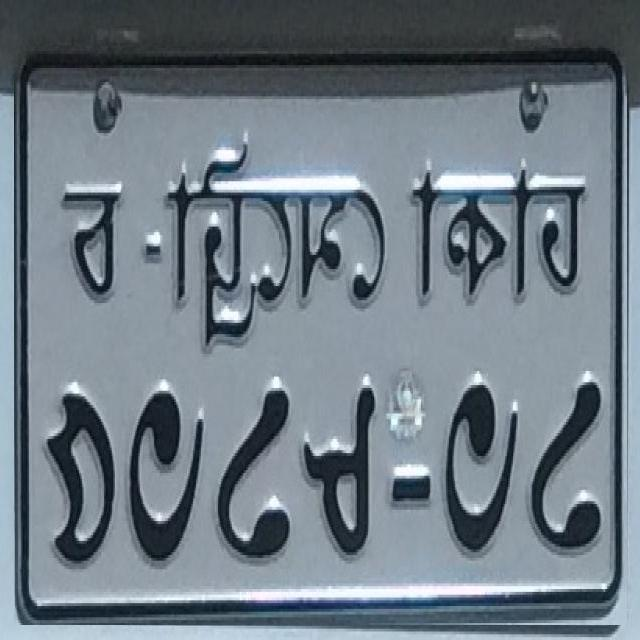numberplate: (14, 46, 627, 625)
